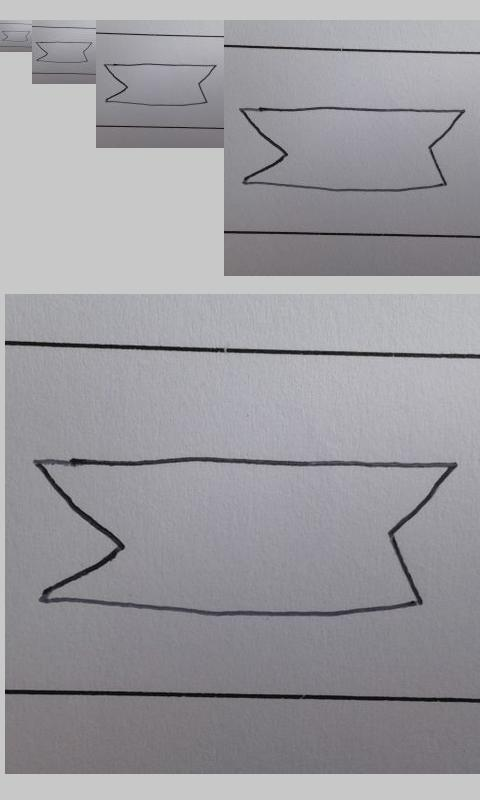edit_text: (35, 456, 456, 620), (239, 106, 465, 192), (103, 62, 217, 107), (35, 41, 93, 63), (1, 30, 31, 42)
